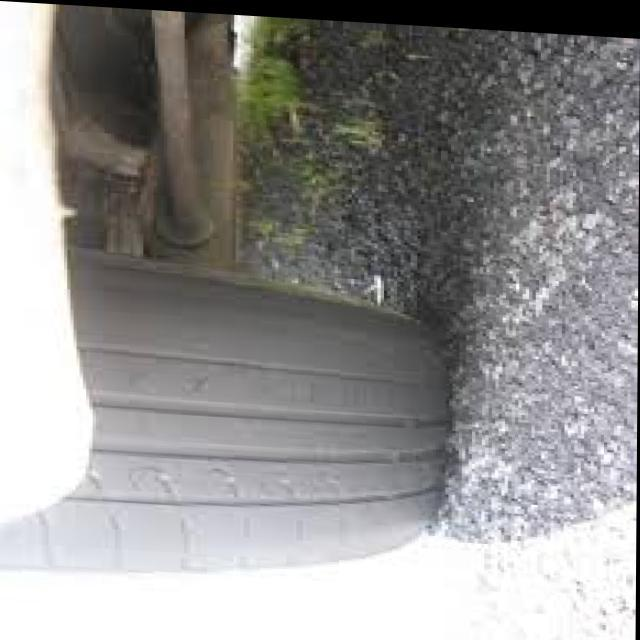Flat spots: (92, 303, 455, 550)
